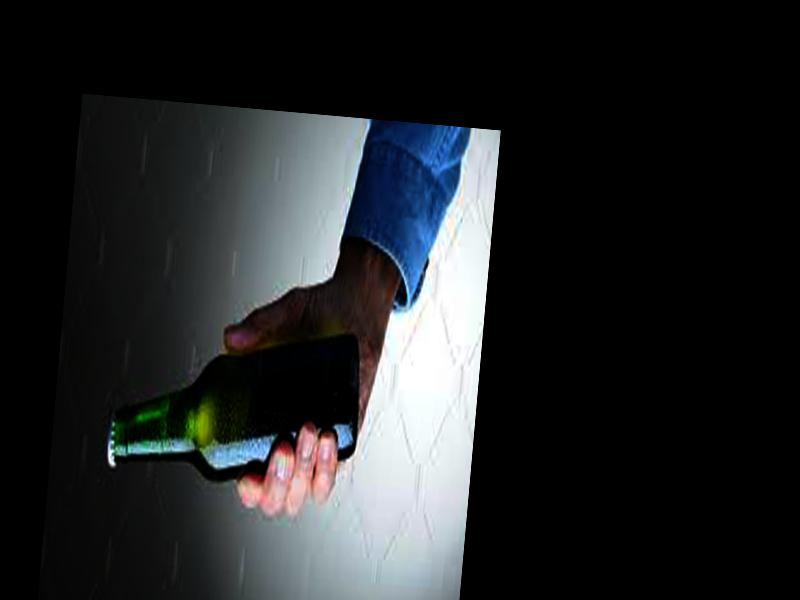Beer: (106, 311, 364, 500)
